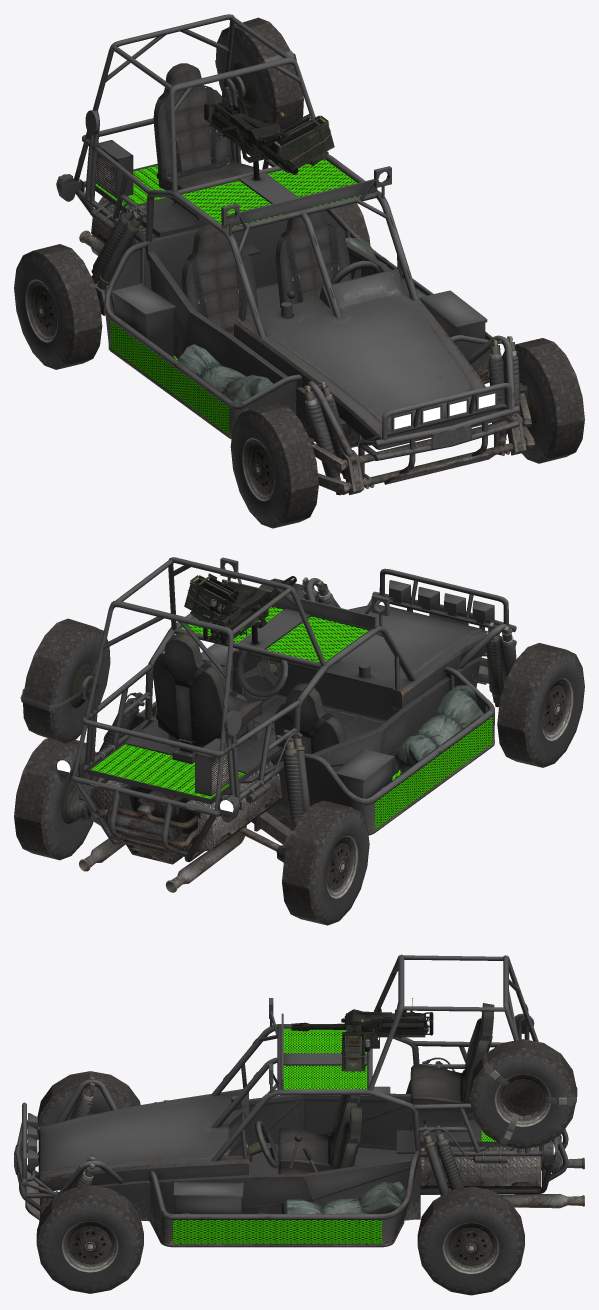
Rendered from vehicle.glb.
3 views of the same model, one above another, from view 1: azimuth 30°, elevation 25°; view 2: azimuth 150°, elevation 25°; view 3: azimuth 270°, elevation 25° (orthographic). The views are drawn at different scales.
Visible parts, largest first — view 1: DPV_main01, DPV_main02, DPV_main08, DPV_main07, fence, DPV_main06, DPV_main03, MK19_WAR_Combined_Combined01, LightsOFF01, DPV_main05; view 2: DPV_main01, DPV_main02, fence, DPV_main08, DPV_main07, DPV_main03, DPV_main05, MK19_WAR_Combined_Combined01, DPV_main04; view 3: DPV_main01, DPV_main03, DPV_main06, DPV_main05, fence, DPV_main02, MK19_WAR_Combined_Combined01, DPV_main08, DPV_main04.
Part boxes in pixels (box(x1,y1,x2,y2)): DPV_main01: box(56, 14, 535, 495); DPV_main02: box(153, 63, 351, 335); DPV_main08: box(230, 402, 318, 528); DPV_main07: box(14, 244, 102, 369); fence: box(95, 159, 486, 434); DPV_main06: box(501, 338, 584, 463); DPV_main03: box(215, 17, 303, 131); MK19_WAR_Combined_Combined01: box(204, 88, 334, 174); LightsOFF01: box(394, 393, 495, 429); DPV_main05: box(332, 203, 370, 244); DPV_main01: box(56, 557, 516, 892); DPV_main02: box(152, 633, 346, 753); fence: box(91, 606, 492, 829); DPV_main08: box(497, 643, 584, 767); DPV_main07: box(282, 800, 369, 925); DPV_main03: box(20, 618, 110, 743); DPV_main05: box(14, 738, 95, 860); MK19_WAR_Combined_Combined01: box(184, 573, 296, 644); DPV_main04: box(237, 650, 288, 698); DPV_main01: box(14, 954, 584, 1247); DPV_main03: box(469, 1039, 577, 1149); DPV_main06: box(36, 1185, 143, 1293); DPV_main05: box(417, 1186, 524, 1295); fence: box(173, 1028, 495, 1243); DPV_main02: box(278, 1003, 494, 1174); MK19_WAR_Combined_Combined01: box(291, 998, 433, 1072); DPV_main08: box(37, 1071, 140, 1134); DPV_main04: box(255, 1121, 279, 1168).
Bounding box in the file's own units: 3.97 × 3.56 × 7.29.
5 materials, 4 textured.
